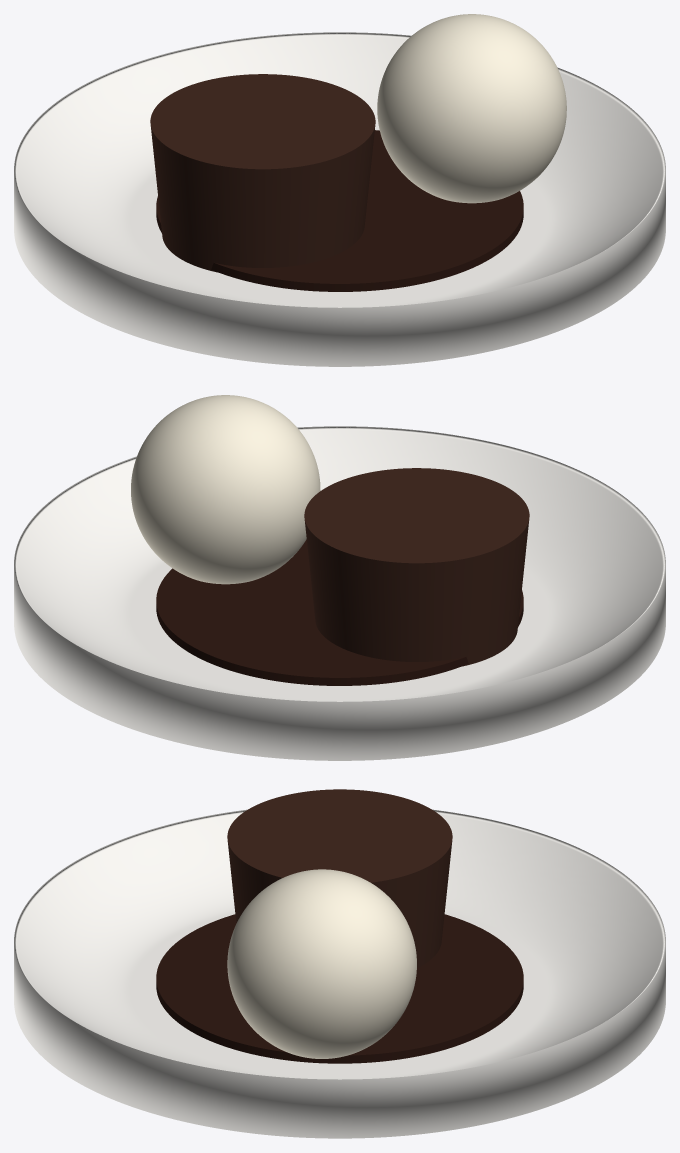
The model's file is sobremesa-1-hero.glb.
3 views of the same model, one above another, from view 1: azimuth 30°, elevation 25°; view 2: azimuth 150°, elevation 25°; view 3: azimuth 270°, elevation 25° (orthographic).
Size of the model in its own units: 0.22 by 0.068 by 0.22.
